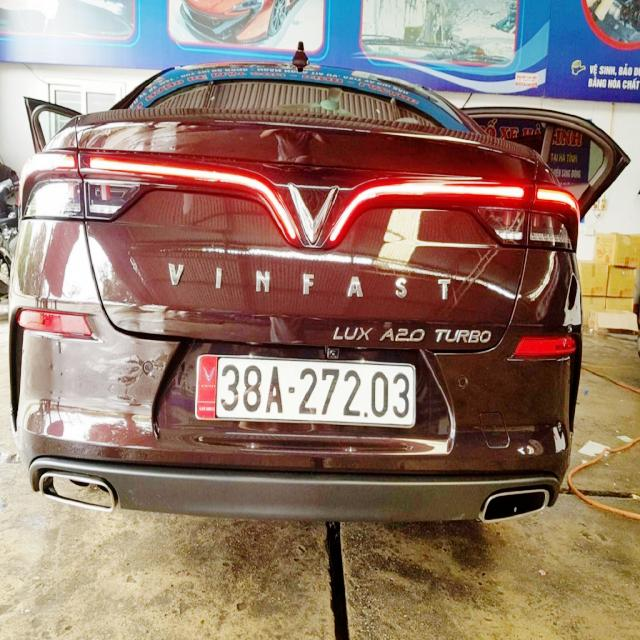license_plate: (194, 357, 416, 427)
